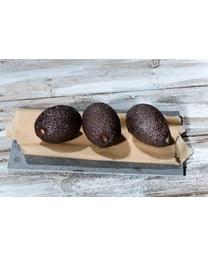avocado: (127, 102, 173, 147), (33, 104, 81, 146), (81, 101, 123, 149)
